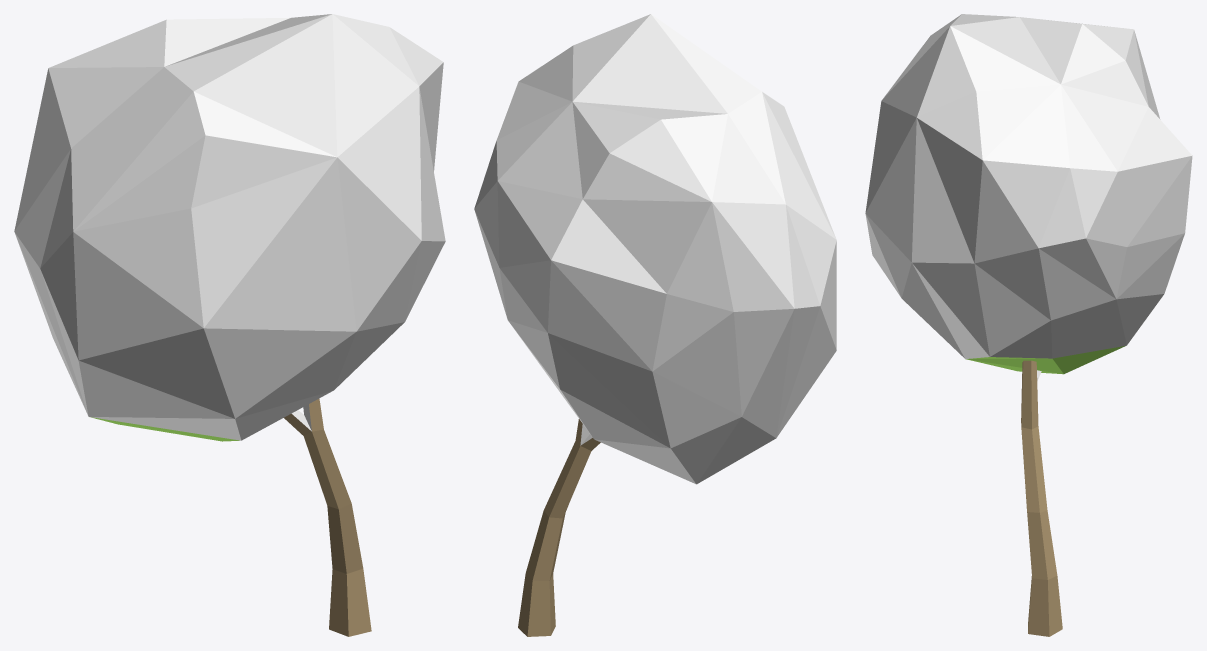
Rendered from Apple_Tree_m_Snow_BT_05.fbx.
The picture shows the model from 3 angles, left to right: view 1: azimuth 30°, elevation 25°; view 2: azimuth 150°, elevation 25°; view 3: azimuth 270°, elevation 25°; orthographic projection. The views are drawn at different scales.
Parts seen in each view (by area): view 1: Apple_Tree_m_Snow_BT_05; view 2: Apple_Tree_m_Snow_BT_05; view 3: Apple_Tree_m_Snow_BT_05.
Boxes of the visible parts, x1=… form: Apple_Tree_m_Snow_BT_05: x1=14, y1=14, x2=445, y2=636; Apple_Tree_m_Snow_BT_05: x1=474, y1=14, x2=836, y2=636; Apple_Tree_m_Snow_BT_05: x1=865, y1=14, x2=1192, y2=636.
Bounding box in the file's own units: 436 × 752 × 389.
